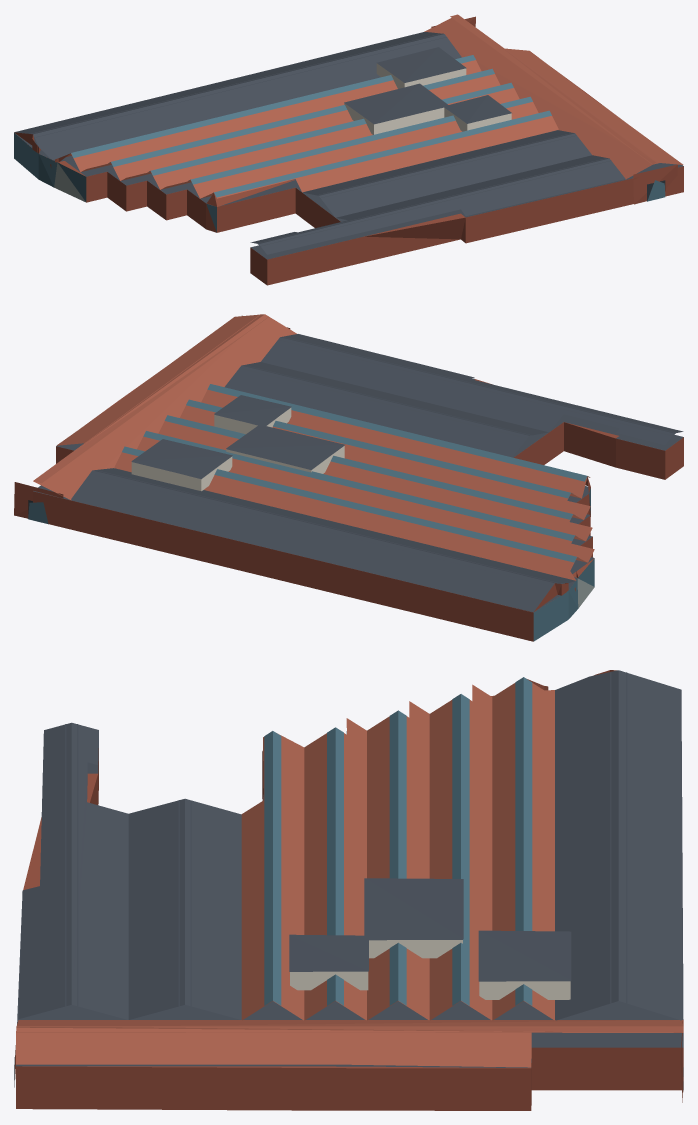
The model's file is de-hallen.lod2.glb.
3 renders of one model, top to bottom at view 1: azimuth 30°, elevation 25°; view 2: azimuth 150°, elevation 25°; view 3: azimuth 270°, elevation 25°, orthographic. The views are drawn at different scales.
Parts seen in each view (by area): view 1: lod2; view 2: lod2; view 3: lod2.
Boxes of the visible parts, box(x1,y1,x2,y2) form: lod2: box(14, 14, 683, 285); lod2: box(14, 314, 683, 641); lod2: box(14, 670, 683, 1110).
Size of the model in its own units: 138 by 11.25 by 103.
